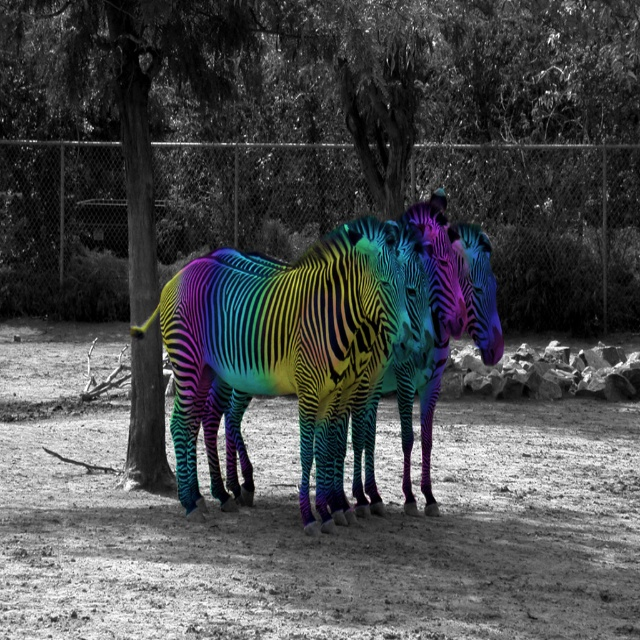Zebra: (129, 188, 504, 537)
